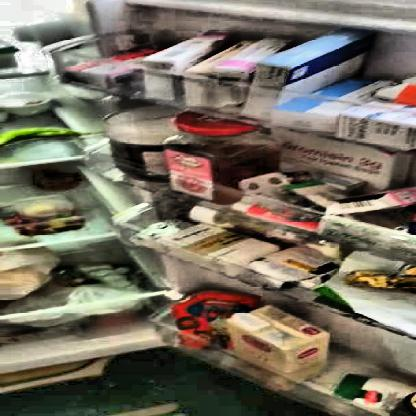green_chillies: (0, 128, 83, 145)
milk: (231, 307, 322, 373)
